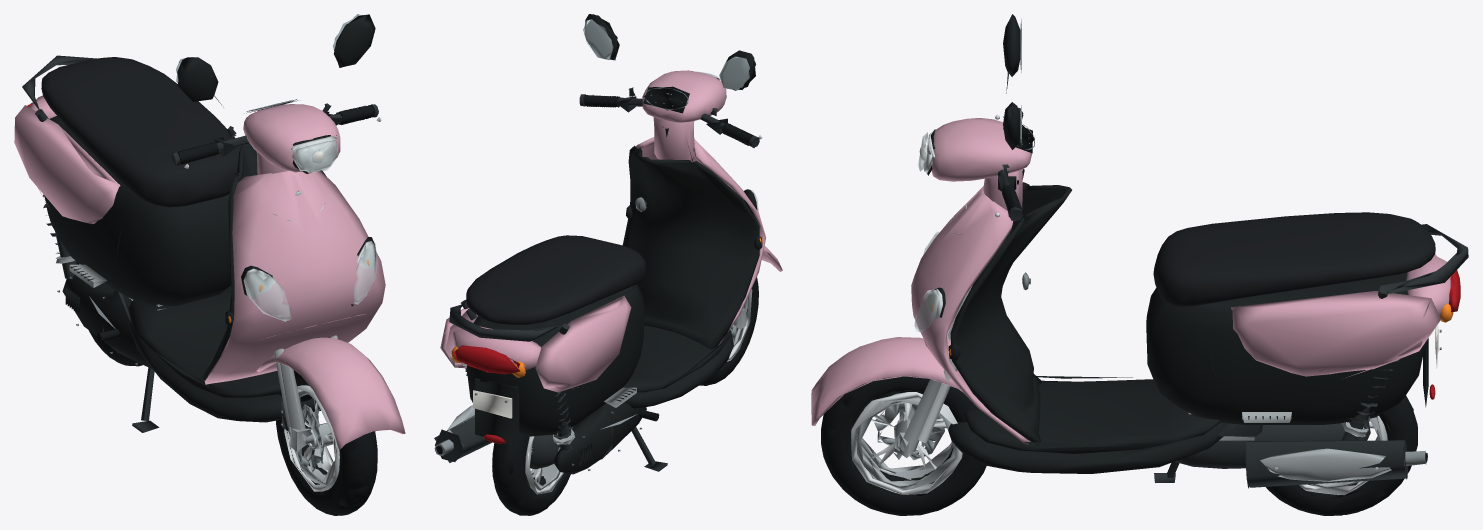
Rendered from far.glb.
3 renders of one model, left to right at view 1: azimuth 30°, elevation 25°; view 2: azimuth 150°, elevation 25°; view 3: azimuth 270°, elevation 25°, orthographic. The views are drawn at different scales.
Parts seen in each view (by area): view 1: Front body | pearl legshield, Seat | tailored two level black vinyl, Body | underseat bucket, Front fender | curved lacquer shell, Floorboard | molded deck, Rear body | rose side fairing -1, FRONT | directional tread tire, Handlebar | pearl lamp housing, Body | lower belly pan, Engine | left CVT cover, Front body | enclosed inner legshield, Turn signal | clear faceted cover (+14 smaller); view 2: Front body | enclosed inner legshield, Seat | tailored two level black vinyl, Body | underseat bucket, Rear body | rose side fairing -1, Floorboard | molded deck, REAR | directional tread tire, Engine | left CVT cover, Handlebar | pearl lamp housing, Rear | plate and mudflap, Body | lower belly pan, Front body | pearl legshield, Front body | steering neck fairing (+13 smaller); view 3: Body | underseat bucket, Seat | tailored two level black vinyl, Rear body | rose side fairing 1, Front body | enclosed inner legshield, Floorboard | molded deck, Front body | pearl legshield, FRONT | directional tread tire, Body | lower belly pan, Front fender | curved lacquer shell, Handlebar | pearl lamp housing, REAR | directional tread tire, Exhaust | black muffler (+9 smaller).
Boxes of the visible parts, x1,y1,x2,y2 form: Front body | pearl legshield: (204, 170, 385, 384); Seat | tailored two level black vinyl: (41, 57, 241, 207); Body | underseat bucket: (44, 116, 231, 306); Front fender | curved lacquer shell: (256, 337, 405, 449); Floorboard | molded deck: (128, 285, 281, 397); Rear body | rose side fairing -1: (14, 105, 120, 224); FRONT | directional tread tire: (276, 370, 377, 515); Handlebar | pearl lamp housing: (243, 104, 340, 172); Body | lower belly pan: (130, 322, 320, 422); Engine | left CVT cover: (62, 274, 152, 368); Front body | enclosed inner legshield: (200, 144, 326, 381); Turn signal | clear faceted cover: (246, 270, 291, 321); Front body | enclosed inner legshield: (622, 145, 759, 349); Seat | tailored two level black vinyl: (466, 235, 645, 324); Body | underseat bucket: (466, 284, 644, 436); Rear body | rose side fairing -1: (535, 295, 631, 392); Floorboard | molded deck: (623, 326, 730, 392); REAR | directional tread tire: (492, 433, 570, 515); Engine | left CVT cover: (552, 402, 646, 474); Handlebar | pearl lamp housing: (642, 70, 726, 122); Rear | plate and mudflap: (475, 378, 519, 446); Body | lower belly pan: (625, 330, 733, 408); Front body | pearl legshield: (636, 137, 765, 345); Front body | steering neck fairing: (653, 117, 694, 161); Body | underseat bucket: (1146, 272, 1425, 424); Seat | tailored two level black vinyl: (1153, 212, 1435, 306); Rear body | rose side fairing 1: (1231, 291, 1440, 376); Front body | enclosed inner legshield: (950, 182, 1071, 445); Floorboard | molded deck: (964, 379, 1220, 453); Front body | pearl legshield: (911, 186, 1030, 444); FRONT | directional tread tire: (821, 376, 986, 515); Body | lower belly pan: (947, 422, 1228, 473); Front fender | curved lacquer shell: (811, 337, 962, 425); Handlebar | pearl lamp housing: (931, 118, 1032, 181); REAR | directional tread tire: (1266, 395, 1417, 515); Exhaust | black muffler: (1245, 439, 1407, 488).
Size of the model in its own units: 0.7518 by 1.54 by 2.03.
